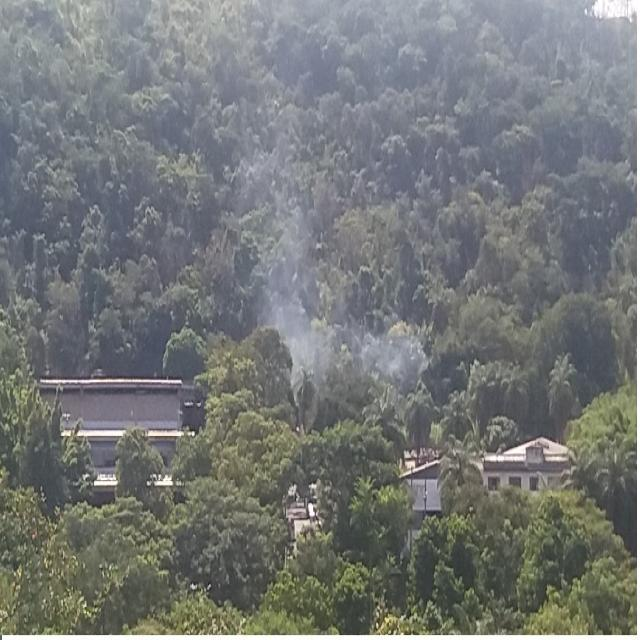Smoke: (253, 201, 436, 422)
